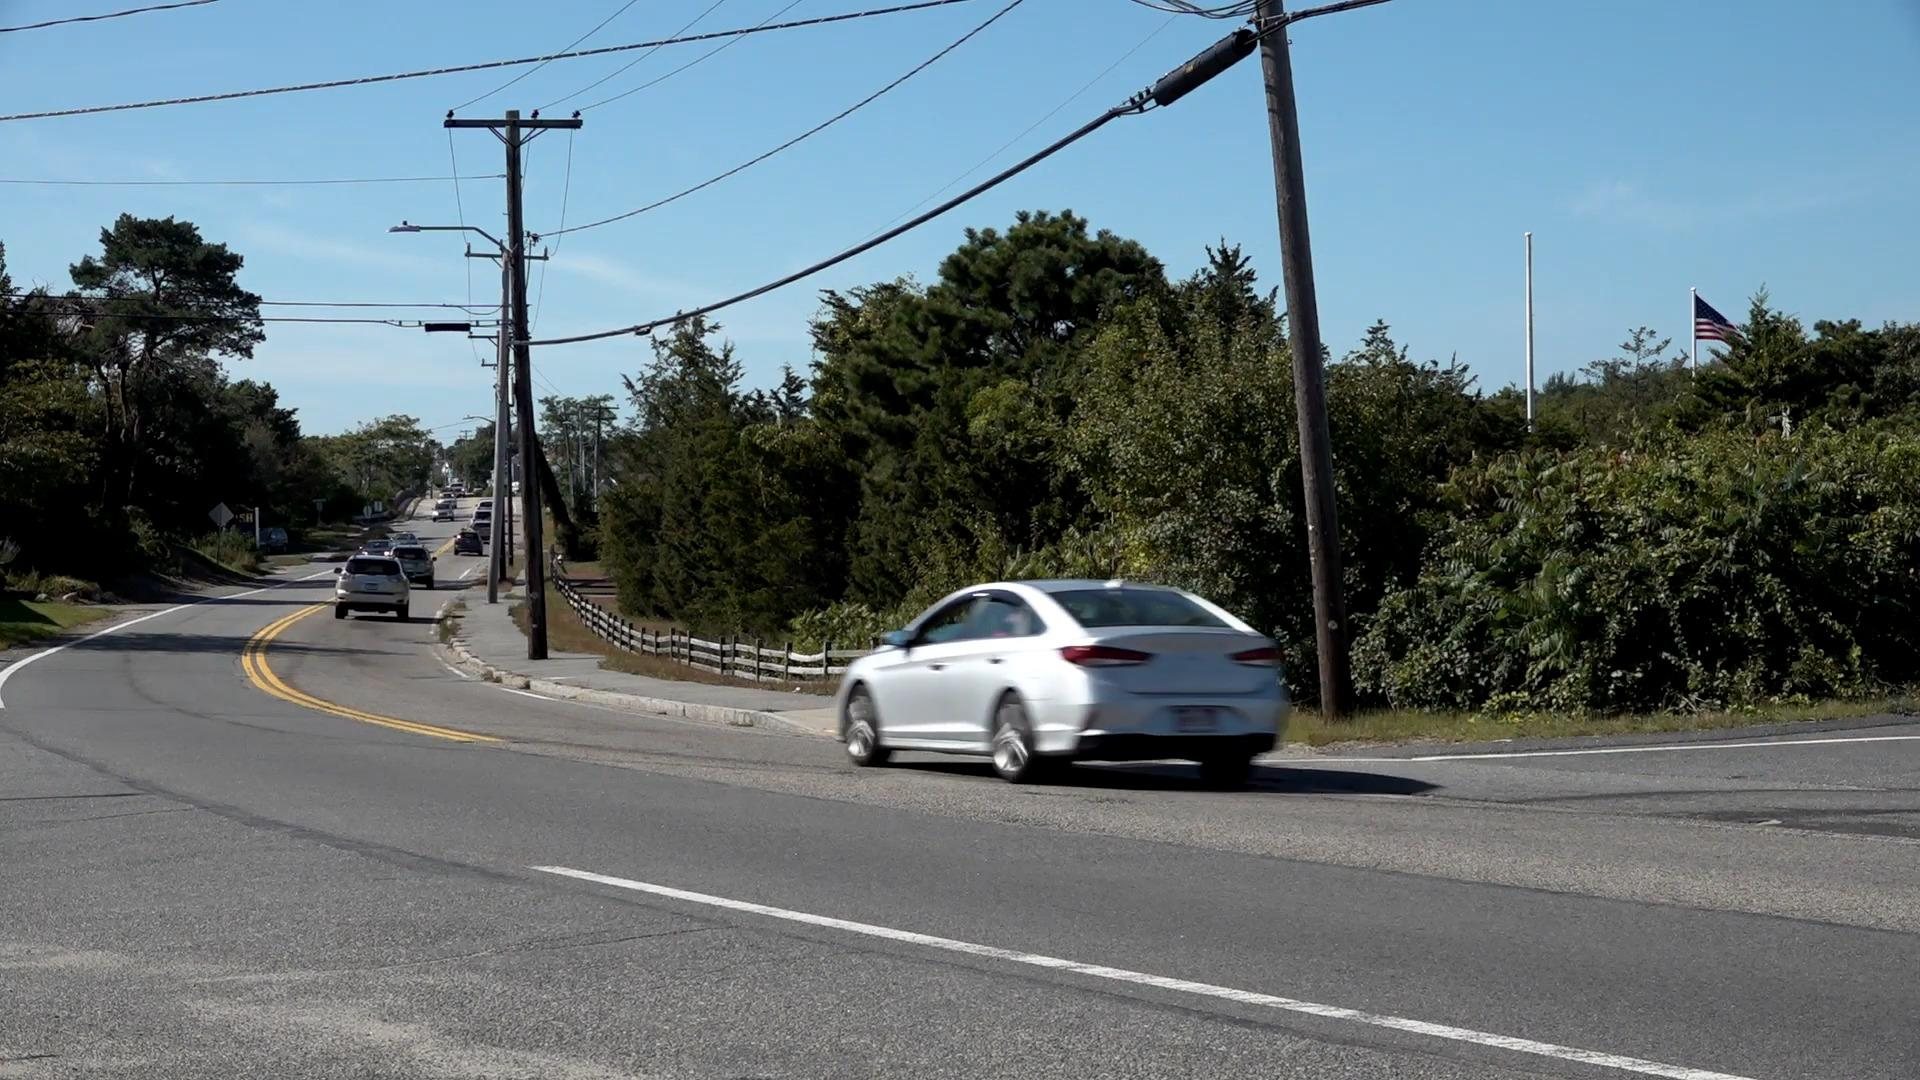sedans: (836, 571, 1286, 789)
